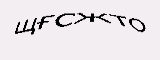Ж: (74, 10, 112, 24)
О: (128, 15, 149, 35)
С: (54, 11, 76, 28)
Т: (109, 11, 129, 28)
Щ: (15, 15, 37, 34)
Ғ: (37, 12, 54, 32)
